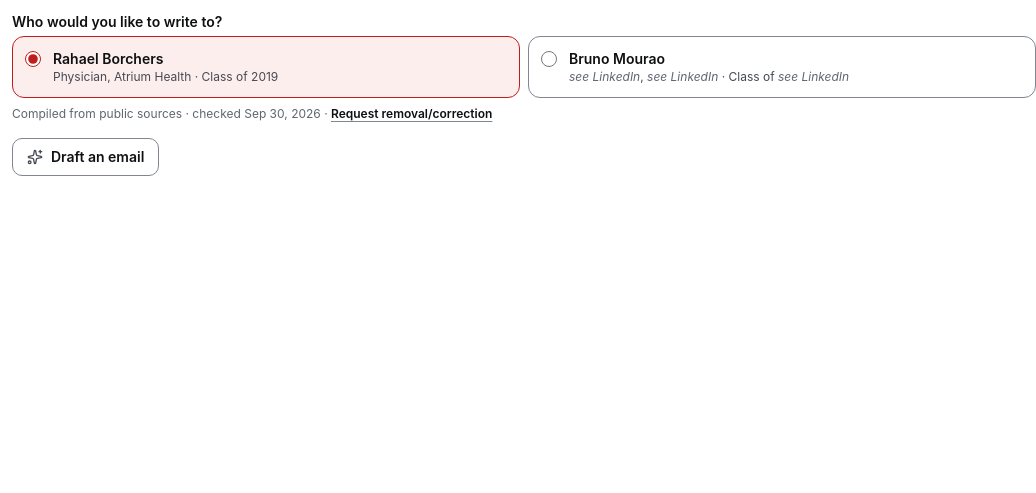
Test: AiColdEmailPanel › Try again after a failure repeats the same request
Click the radio button labelled "Bruno Mourao".
click(549, 59)  # box [541, 51, 557, 67]
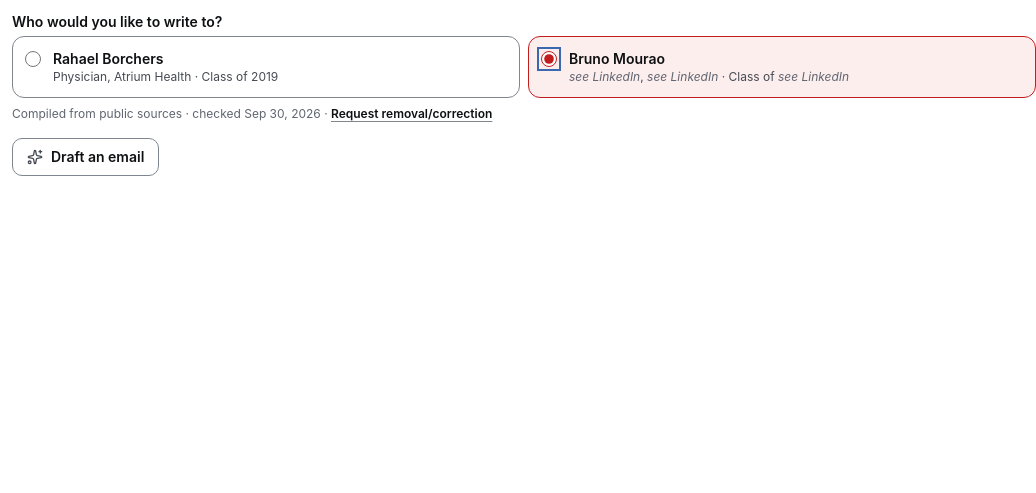
Click the button "Draft an email".
click(86, 157)  # box [12, 138, 159, 176]
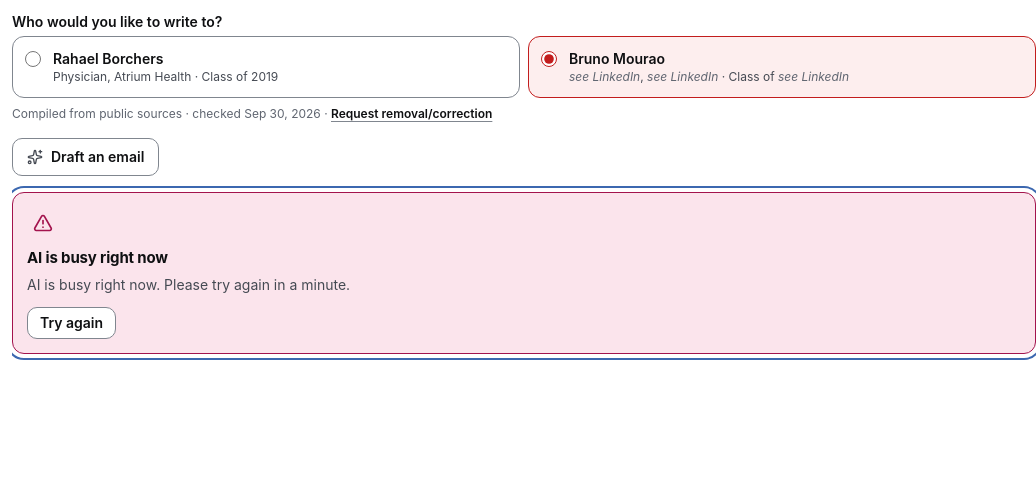
Expected: the message shows "AI is busy right now. Please try again in a minute.", [27, 276, 350, 293]
Click the button "Try again".
click(72, 323)  # box [27, 307, 116, 339]
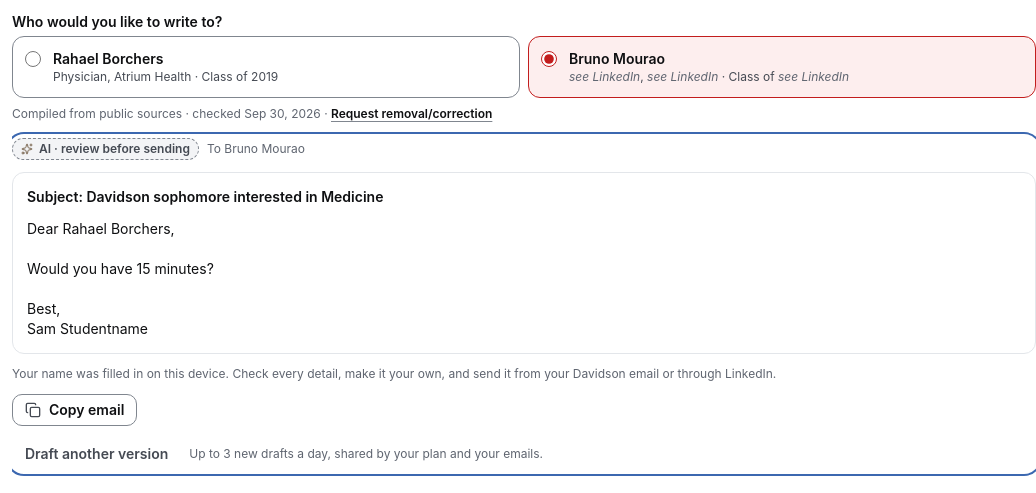
Expected: the element with test id "ai-email-result" is shown
